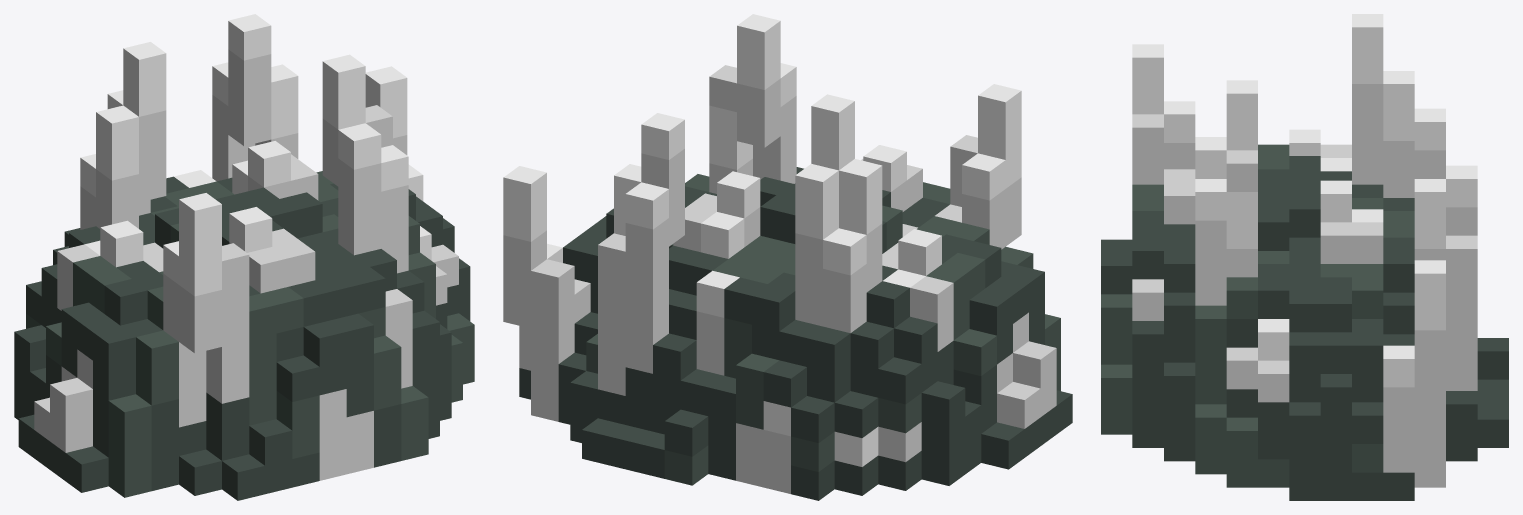
The model's file is CrystalDeposit_L.obj.
3 views of the same model, side by side, from view 1: azimuth 30°, elevation 25°; view 2: azimuth 150°, elevation 25°; view 3: azimuth 270°, elevation 25° (orthographic).
Parts seen in each view (by area): view 1: CrystalDeposit_L; view 2: CrystalDeposit_L; view 3: CrystalDeposit_L.
Part boxes in pixels (box(x1,y1,x2,y2)): CrystalDeposit_L: box(14, 14, 474, 500); CrystalDeposit_L: box(503, 14, 1072, 500); CrystalDeposit_L: box(1101, 14, 1508, 500).
Size of the model in its own units: 1.6 by 1.2 by 1.3.
Materials: 1 (1 with a texture image).
